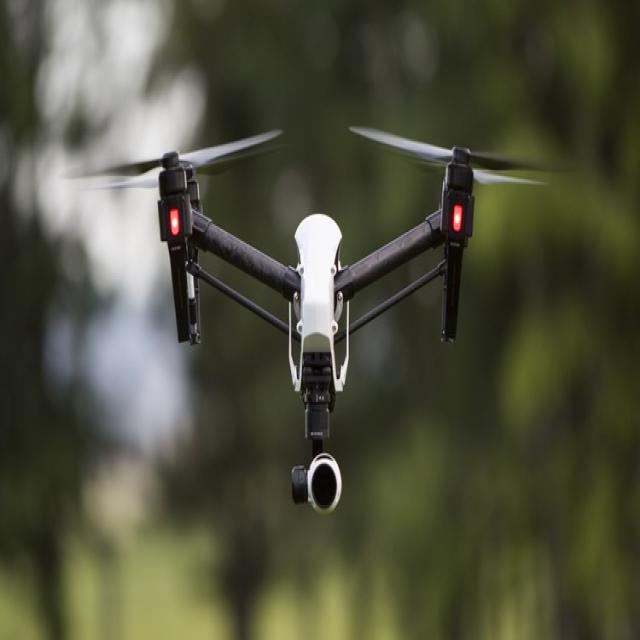drone: (96, 106, 553, 378)
